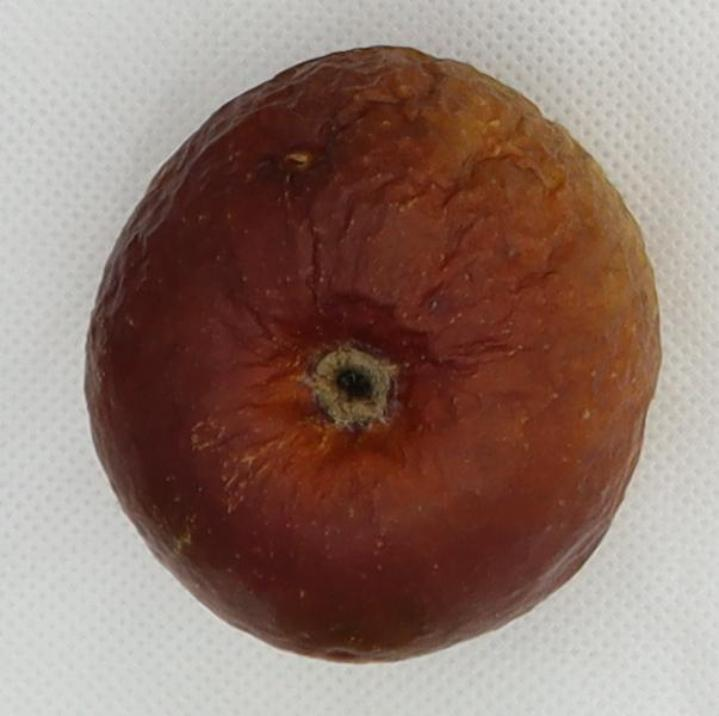apple: (86, 47, 660, 661)
rot_mold_decay: (85, 47, 660, 661)
